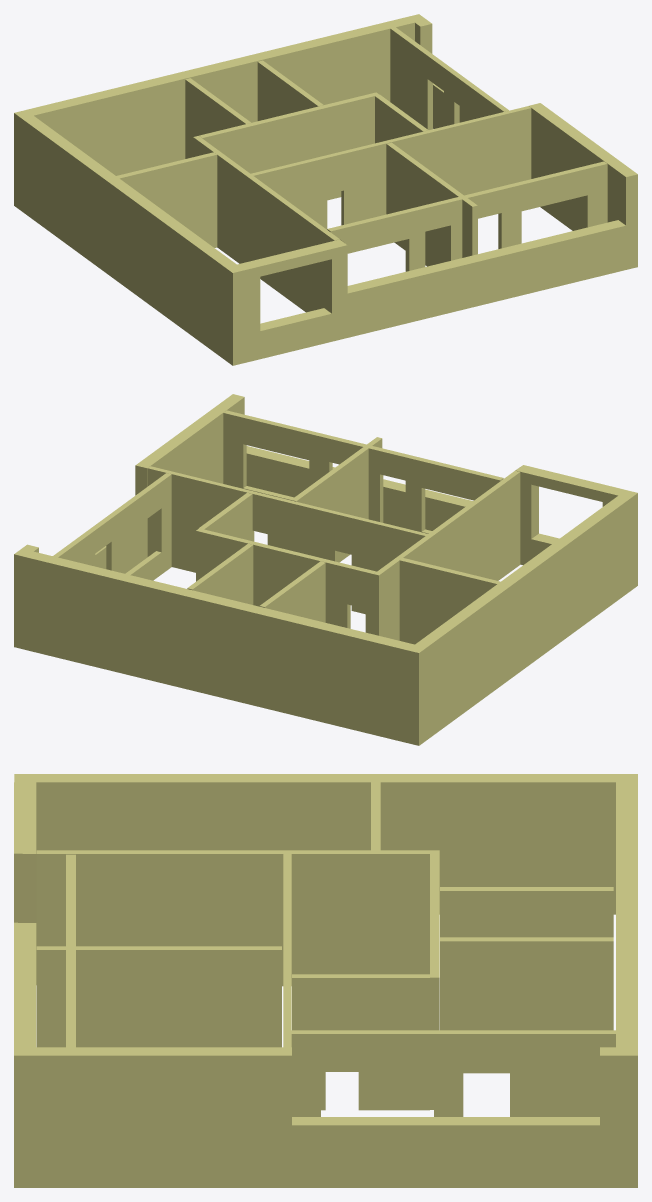
File: pisoMartha.obj
The picture shows the model from 3 angles, top to bottom: view 1: azimuth 30°, elevation 25°; view 2: azimuth 150°, elevation 25°; view 3: azimuth 270°, elevation 25°; orthographic projection. The views are drawn at different scales.
Parts seen in each view (by area): view 1: Plane.025_Plane.024; view 2: Plane.025_Plane.024; view 3: Plane.025_Plane.024.
Boxes of the visible parts, <box> form: Plane.025_Plane.024: <box>14,14,637,365</box>; Plane.025_Plane.024: <box>14,394,637,745</box>; Plane.025_Plane.024: <box>14,774,637,1187</box>.
Bounding box in the file's own units: 21.81 × 4.78 × 20.42.
